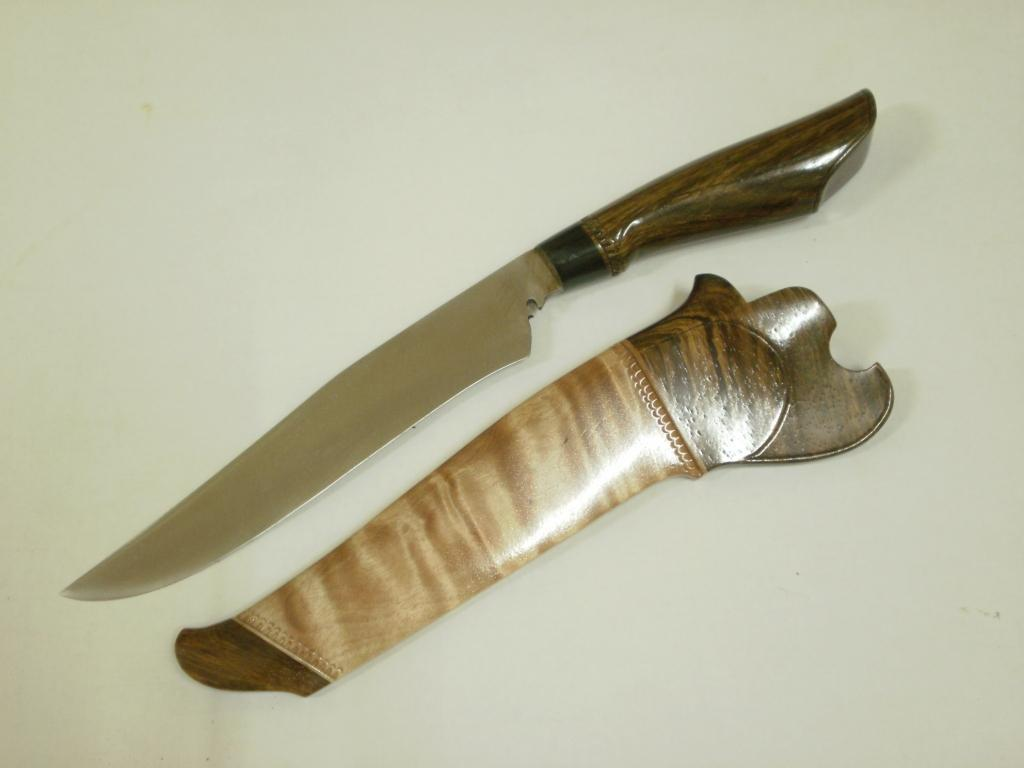faca: (64, 89, 876, 600)
